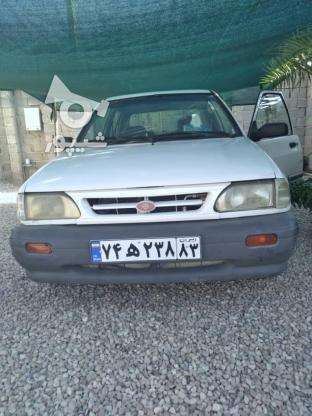car: (87, 234, 202, 266)
